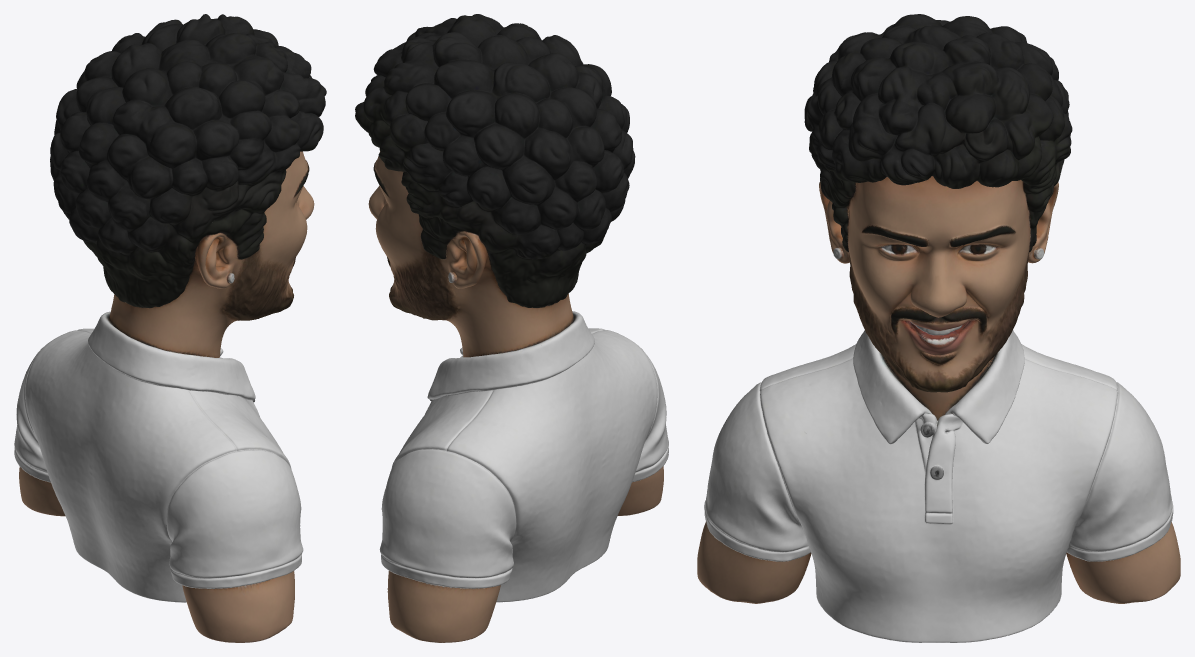
Rendered from sam_white_polo.glb.
3 views of the same model, side by side, from view 1: azimuth 30°, elevation 25°; view 2: azimuth 150°, elevation 25°; view 3: azimuth 270°, elevation 25° (orthographic). The views are drawn at different scales.
Parts seen in each view (by area): view 1: tripo_node_2f112de7-b47c-4eee-98e3-018790d6dac5; view 2: tripo_node_2f112de7-b47c-4eee-98e3-018790d6dac5; view 3: tripo_node_2f112de7-b47c-4eee-98e3-018790d6dac5.
Boxes of the visible parts, <box> form: tripo_node_2f112de7-b47c-4eee-98e3-018790d6dac5: <box>14,14,326,642</box>; tripo_node_2f112de7-b47c-4eee-98e3-018790d6dac5: <box>355,14,668,642</box>; tripo_node_2f112de7-b47c-4eee-98e3-018790d6dac5: <box>697,14,1180,642</box>.
Size of the model in its own units: 0.5051 by 1 by 0.766.
Materials: 1 (1 with a texture image).
